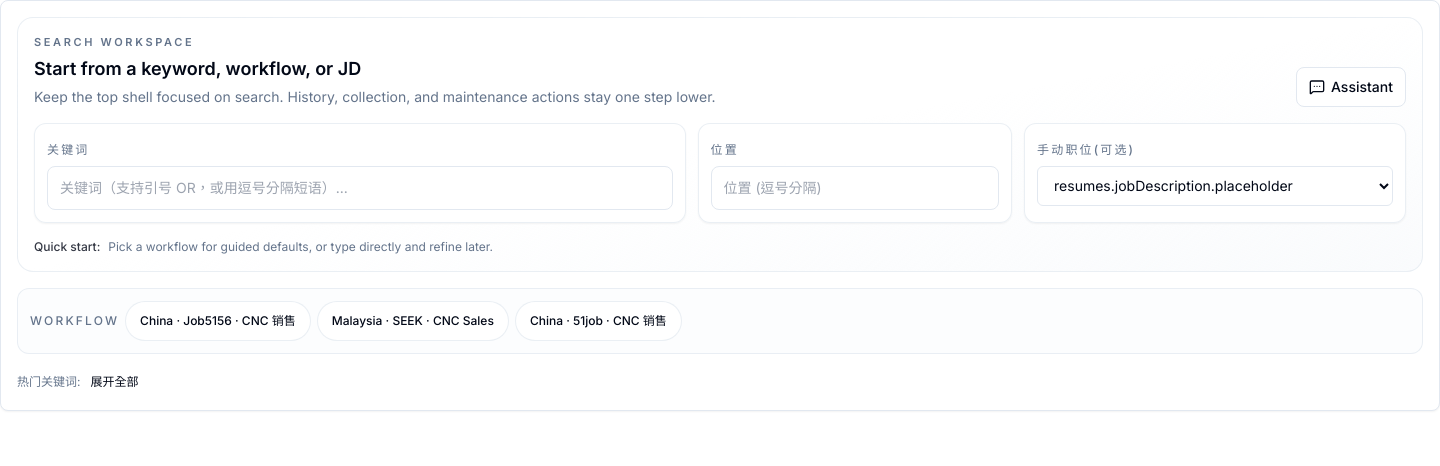
Scenario: QuickStartPanel quick-filter display › applies the 51job workflow preset with collectionSource type 51job
Click the button "China · 51job · CNC 销售". click: (598, 320)
box: [515, 300, 682, 340]
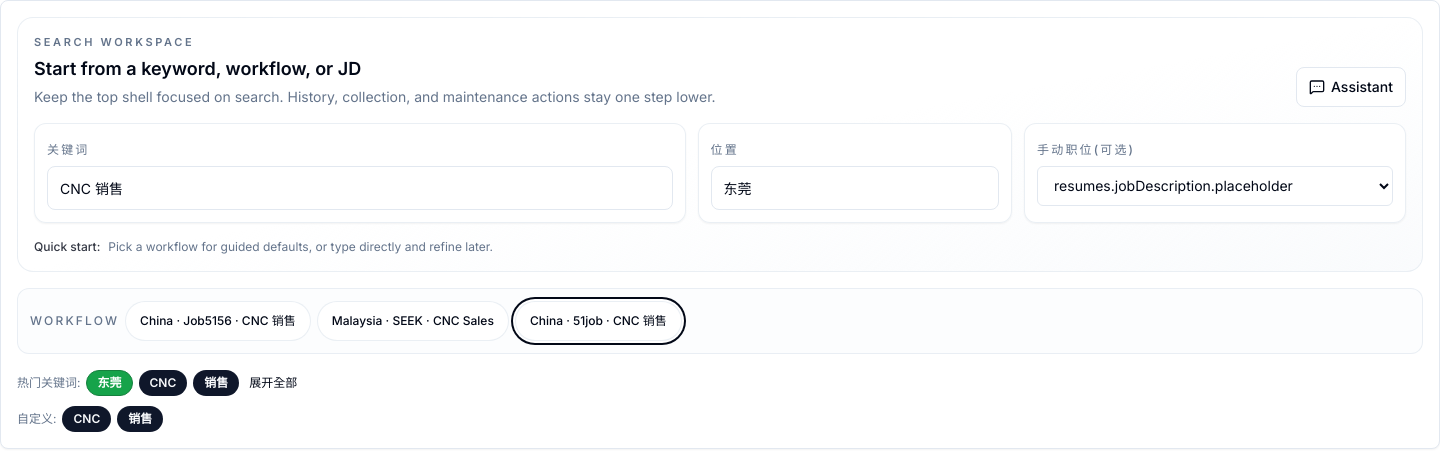
Result: the field labelled "位置" holds "东莞" at [710, 166, 999, 210]
Result: the field showing "CNC 销售" is shown at [47, 166, 672, 210]
